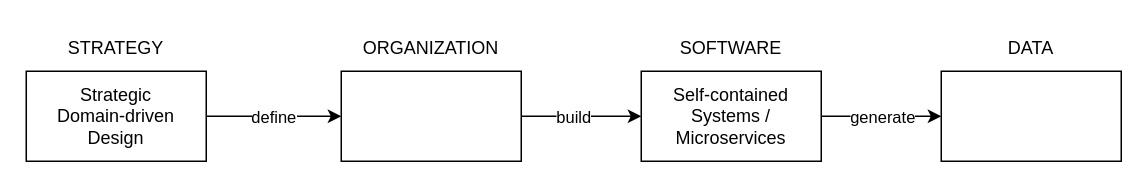
Some shapes in this 1148 by 188 pixel diagram are drawn without their labels. Each missing label, with the centre of its shape:
"Autonomous Domain Teams" goes at (430,115).
"Data Mesh" goes at (1030,115).
